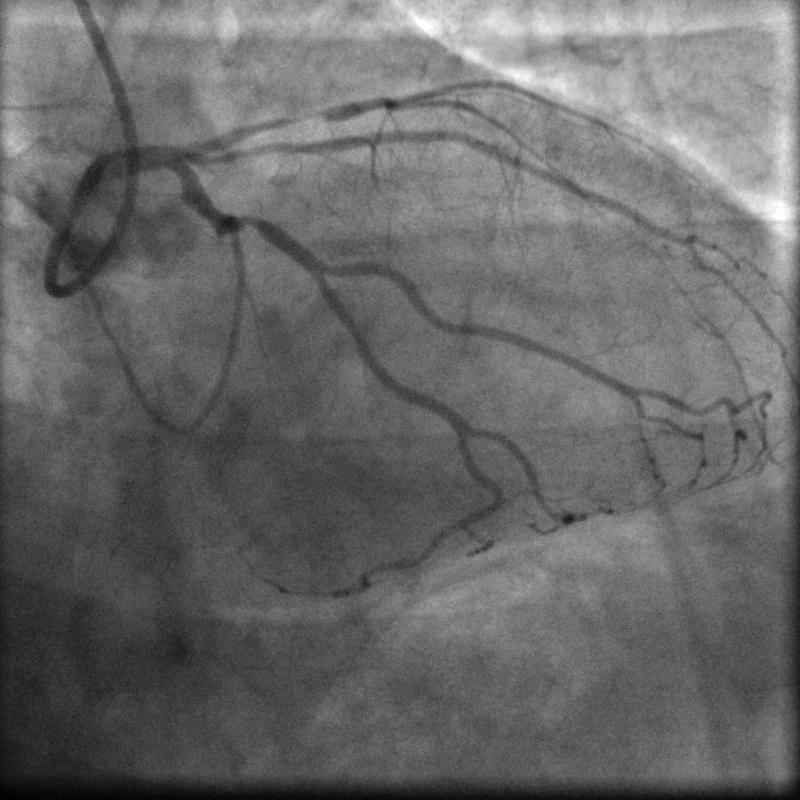Stenosis: (236, 210, 262, 233)
